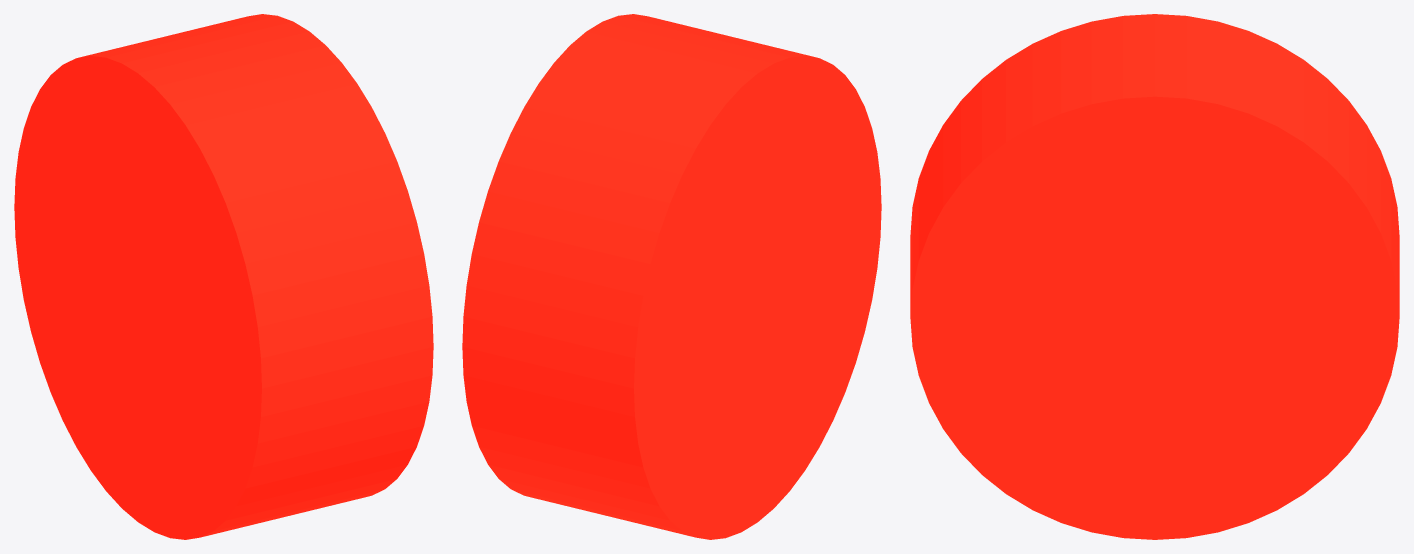
The model's file is status_light_error_p.glb.
3 renders of one model, left to right at view 1: azimuth 30°, elevation 25°; view 2: azimuth 150°, elevation 25°; view 3: azimuth 270°, elevation 25°, orthographic.
Parts seen in each view (by area): view 1: led.001; view 2: led.001; view 3: led.001.
Boxes of the visible parts, x1=… form: led.001: x1=14, y1=14, x2=433, y2=539; led.001: x1=462, y1=14, x2=881, y2=539; led.001: x1=910, y1=14, x2=1399, y2=539.
Size of the model in its own units: 0.02 by 0.05 by 0.05.
